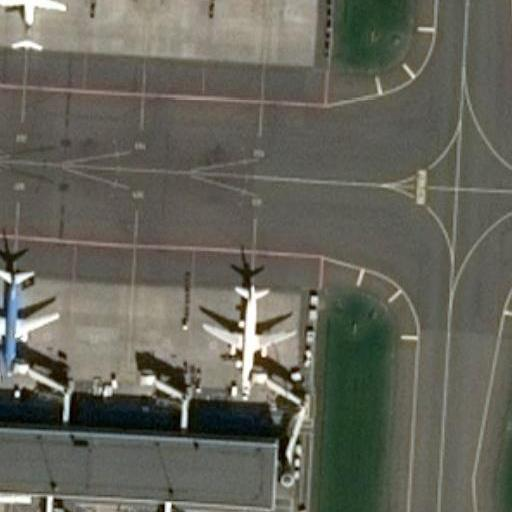Aircraft: (198, 274, 294, 393), (0, 257, 59, 372), (0, 0, 65, 55)
